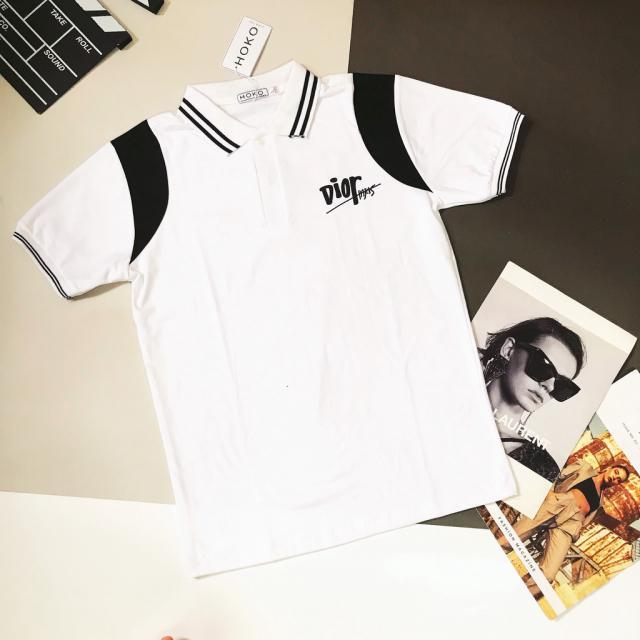Shirt: (9, 61, 538, 584)
